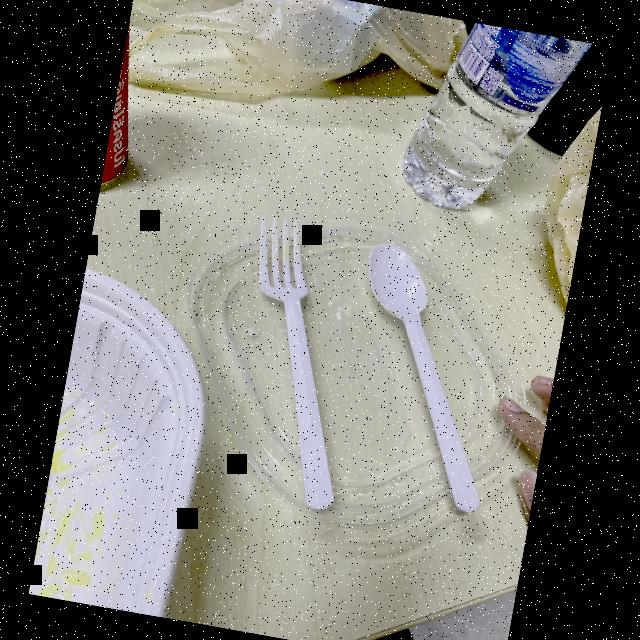plastic_cultery: (196, 201, 397, 528), (322, 236, 525, 522)
